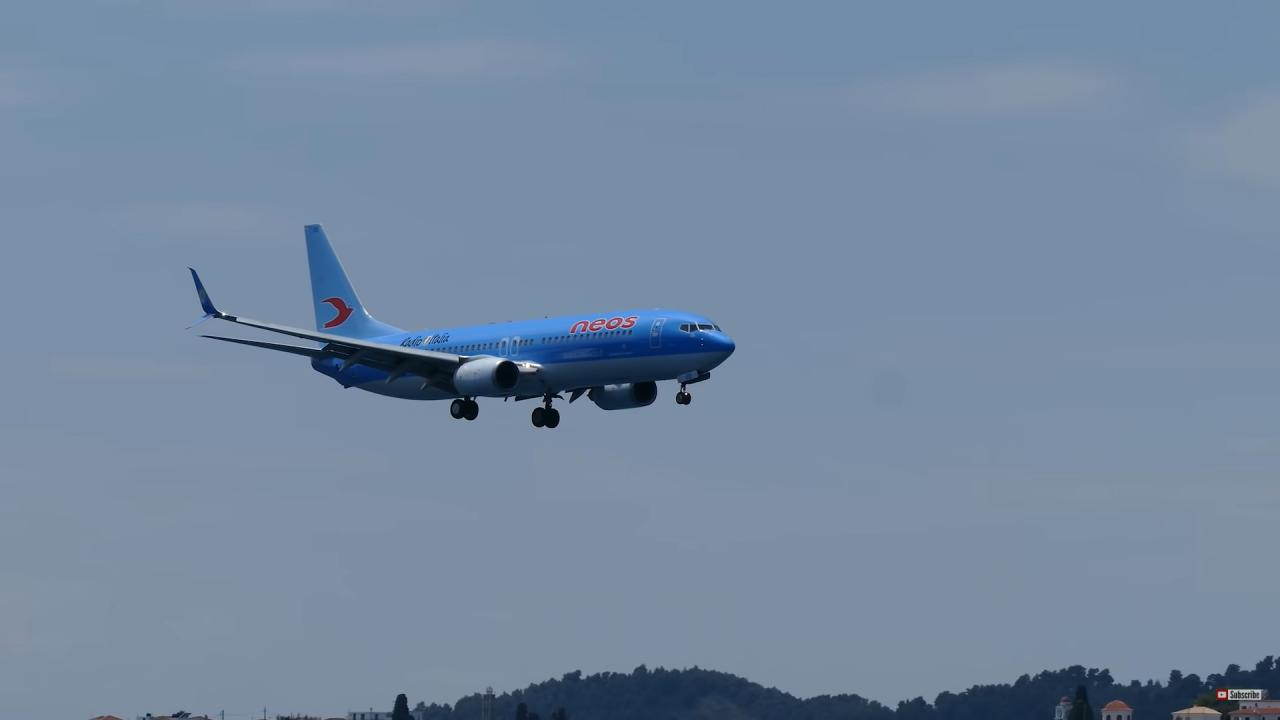Airplane: (177, 218, 745, 446)
